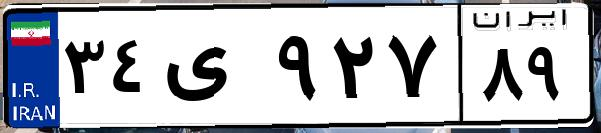2: (330, 28, 385, 110)
3: (57, 26, 110, 100)
4: (110, 28, 158, 98)
7: (385, 28, 445, 110)
8: (475, 38, 525, 113)
9: (270, 28, 330, 110), (525, 38, 570, 115)
ی: (158, 20, 270, 120)
